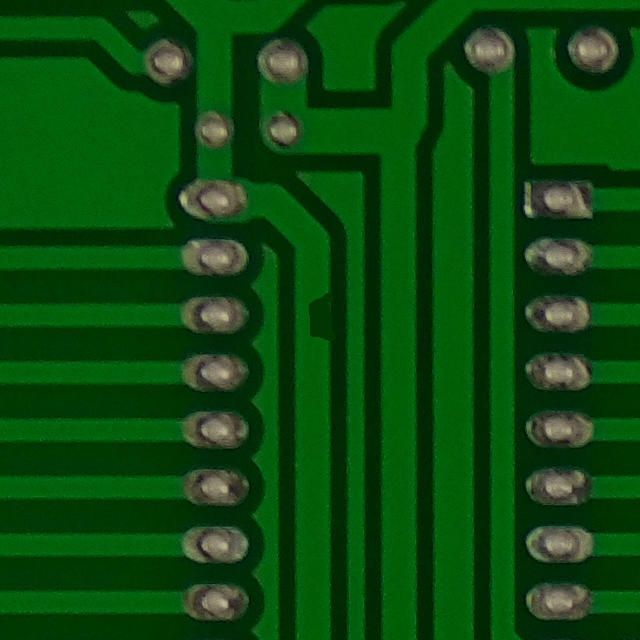mouse_bite: (297, 281, 343, 359)
